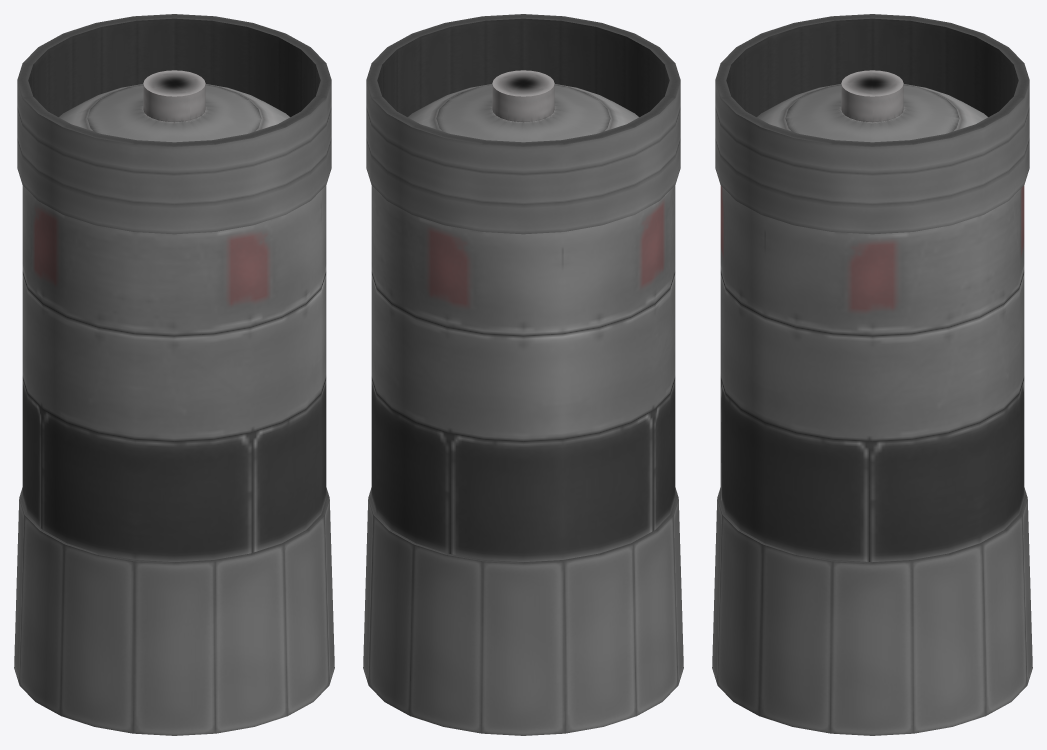
Rendered from Diamant_Rubis.dae.
3 views of the same model, side by side, from view 1: azimuth 30°, elevation 25°; view 2: azimuth 150°, elevation 25°; view 3: azimuth 270°, elevation 25° (orthographic).
Visible parts, largest first — view 1: Rubis, bottomFairing, topFairing; view 2: Rubis, bottomFairing, topFairing; view 3: Rubis, bottomFairing, topFairing.
Boxes of the visible parts, <box> form: Rubis: <box>22,70,326,561</box>; bottomFairing: <box>14,487,334,735</box>; topFairing: <box>17,14,331,234</box>; Rubis: <box>371,70,675,561</box>; bottomFairing: <box>363,487,683,735</box>; topFairing: <box>366,14,680,234</box>; Rubis: <box>720,70,1024,561</box>; bottomFairing: <box>712,487,1032,735</box>; topFairing: <box>715,14,1029,234</box>.
Size of the model in its own units: 0.6239 by 1.26 by 0.6239.
